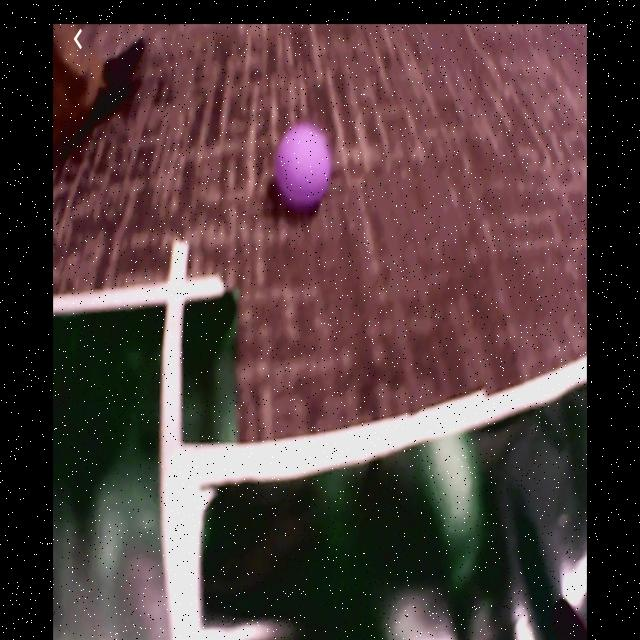ball: (274, 124, 330, 206)
